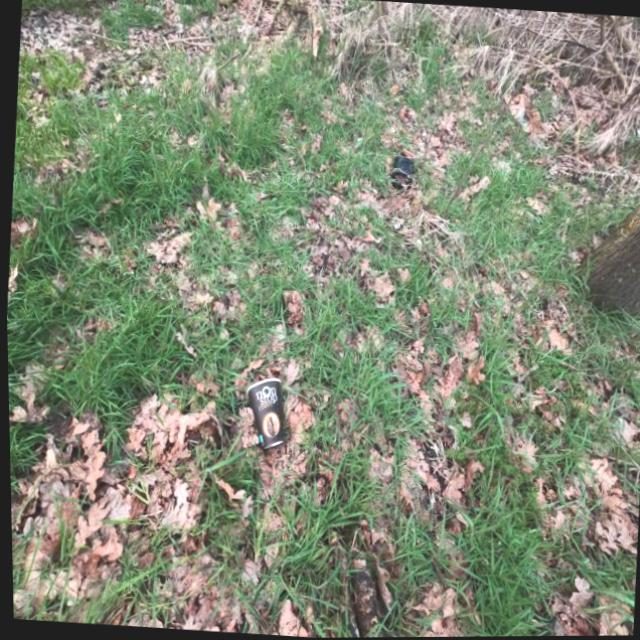Cup: (238, 373, 288, 453)
